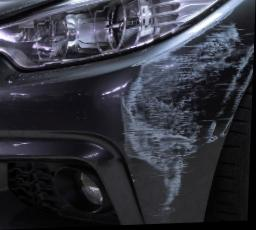Bumper: (30, 0, 255, 218)
